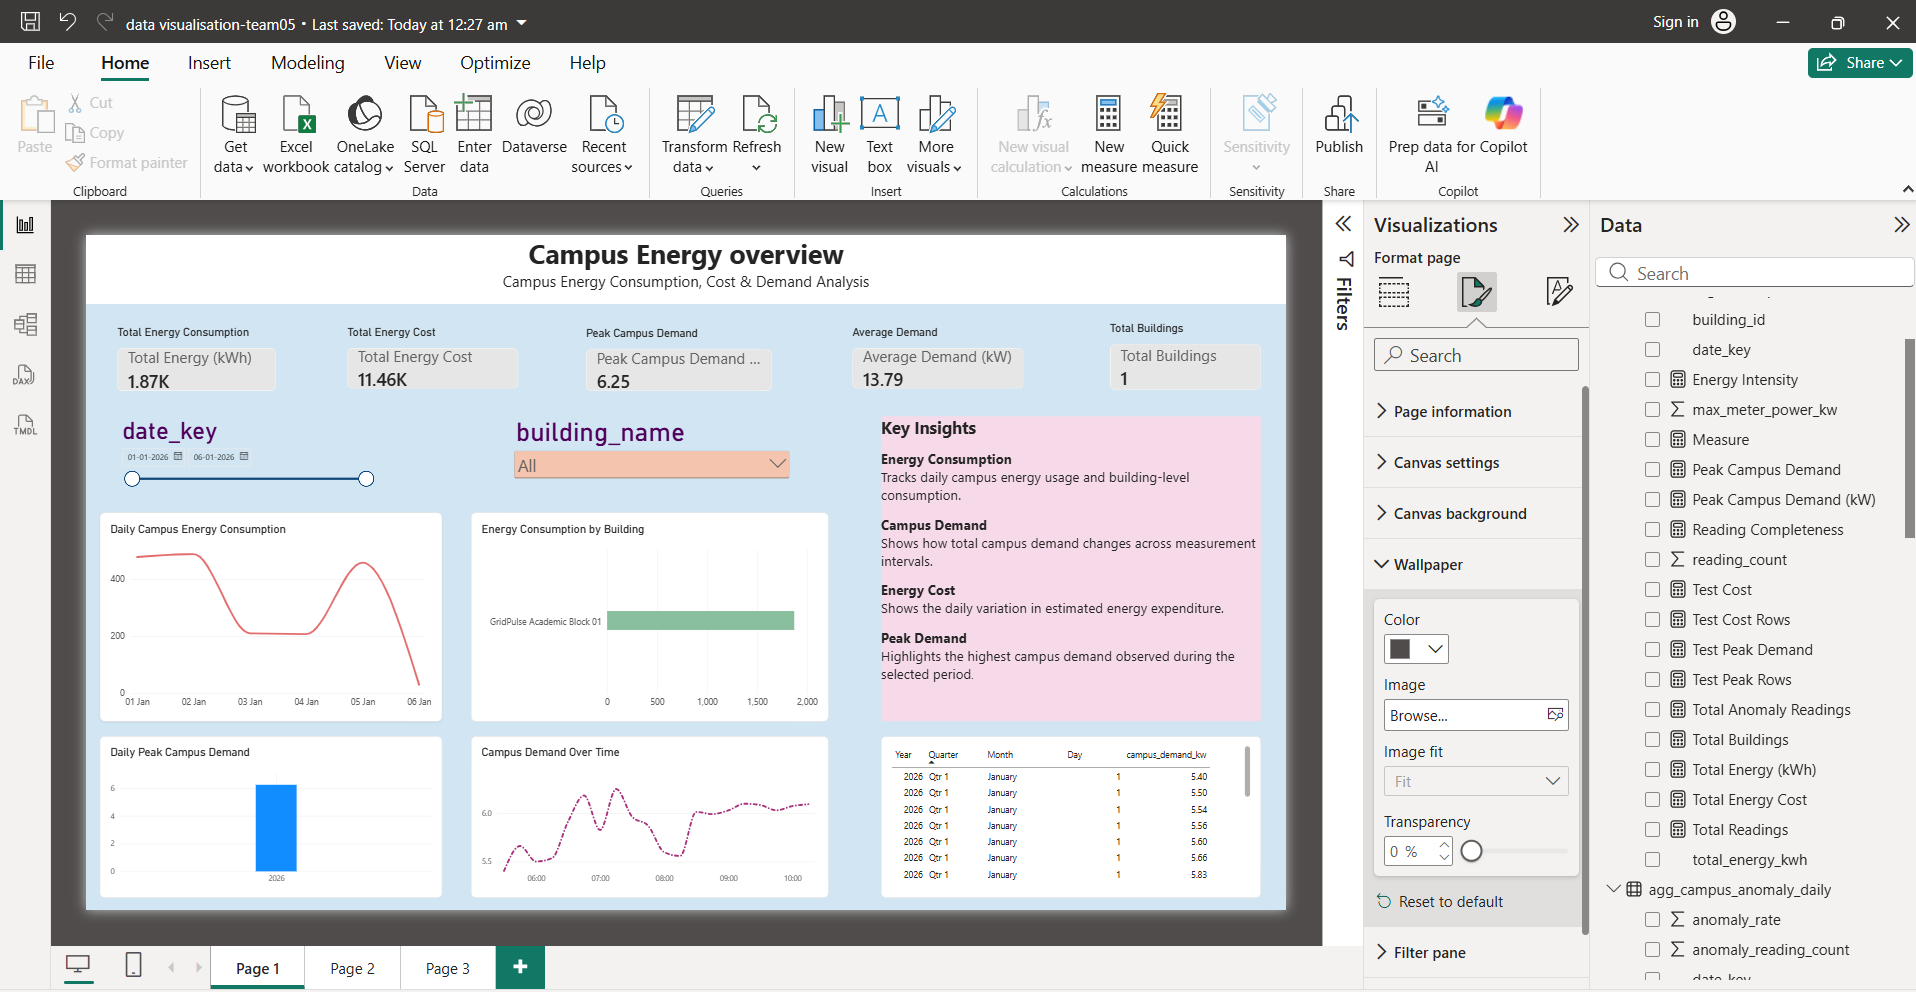

The page's visual inventory and layout, read from the dashboard file:
{"tool":"powerbi","page":{"name":"Page 1","canvas":[1920,1080],"ordinal":0},"visuals":[{"type":"cardVisual","title":"Total Energy Cost","fields":{"Data":["agg_building_consumption_daily.Total Energy Cost"]},"box":[418,144,274,102],"z":0},{"type":"cardVisual","title":"Peak Campus Demand","fields":{"Data":["agg_building_consumption_daily.Peak Campus Demand (kW)"]},"box":[800,146,298,104],"z":1000},{"type":"cardVisual","title":"Average Demand","fields":{"Data":["agg_building_consumption_daily.Average Demand (kW)"]},"box":[1226,144,274,102],"z":2000},{"type":"cardVisual","title":"Total Energy Consumption","fields":{"Data":["agg_building_consumption_daily.Total Energy (kWh)"]},"box":[50,144,254,106],"z":3000},{"type":"cardVisual","title":"Total Buildings","fields":{"Data":["agg_building_consumption_daily.Total Buildings"]},"box":[1638,138,242.5,110.4],"z":4000},{"type":"lineChart","title":"Daily Campus Energy Consumption","fields":{"Y":["agg_building_consumption_daily.Total Energy (kWh)"],"Category":["dim_date.date_key.Variation.Date Hierarchy.Year","dim_date.date_key.Variation.Date Hierarchy.Quarter","dim_date.date_key.Variation.Date Hierarchy.Month","dim_date.date_key.Variation.Date Hierarchy.Day"]},"box":[22,444,548,334],"z":5000},{"type":"clusteredBarChart","title":"Energy Consumption by Building","fields":{"Category":["dim_building.building_name"],"Y":["agg_building_consumption_daily.Total Energy (kWh)"]},"box":[616,444,572,334],"z":6000},{"type":"lineChart","title":"Campus Demand Over Time","fields":{"Category":["agg_peak_load_interval.interval_ts"],"Y":["Sum(agg_peak_load_interval.campus_demand_kw)"]},"box":[616,802,572,258],"z":7000},{"type":"tableEx","fields":{"Values":["agg_peak_load_interval.interval_ts.Variation.Date Hierarchy.Year","agg_peak_load_interval.interval_ts.Variation.Date Hierarchy.Quarter","agg_peak_load_interval.interval_ts.Variation.Date Hierarchy.Month","agg_peak_load_interval.interval_ts.Variation.Date Hierarchy.Day","agg_peak_load_interval.campus_demand_kw"]},"box":[1272,802,608,258],"z":9000},{"type":"slicer","fields":{"Values":["dim_date.date_key"]},"box":[50,290,414,234],"z":10000},{"type":"slicer","fields":{"Values":["dim_building.building_name"]},"box":[680,290,450.6,124.9],"z":11000},{"type":"textbox","box":[0,0,1920,110],"z":13000},{"type":"clusteredColumnChart","title":"Daily Peak Campus Demand","fields":{"Category":["agg_peak_load_interval.date_key"],"Y":["agg_building_consumption_daily.Peak Campus Demand"]},"box":[22,802,548,258],"z":14000},{"type":"textbox","box":[1272,290,608,488],"z":14001}]}

Visuals, with their boxes on the page's 1920x1080 design canvas (x1, y1, x2, y2). These are canvas units, not pixel positions in the 1916x992 screenshot, which may show the page scaled, cropped or inside an application window:
"Total Energy Cost" cardVisual: Rect(418, 144, 692, 246)
"Peak Campus Demand" cardVisual: Rect(800, 146, 1098, 250)
"Average Demand" cardVisual: Rect(1226, 144, 1500, 246)
"Total Energy Consumption" cardVisual: Rect(50, 144, 304, 250)
"Total Buildings" cardVisual: Rect(1638, 138, 1880, 248)
"Daily Campus Energy Consumption" lineChart: Rect(22, 444, 570, 778)
"Energy Consumption by Building" clusteredBarChart: Rect(616, 444, 1188, 778)
"Campus Demand Over Time" lineChart: Rect(616, 802, 1188, 1060)
tableEx - agg_peak_load_interval.interval_ts.Variation.Date Hierarchy.Year x agg_peak_load_interval.interval_ts.Variation.Date Hierarchy.Quarter: Rect(1272, 802, 1880, 1060)
slicer - dim_date.date_key: Rect(50, 290, 464, 524)
slicer - dim_building.building_name: Rect(680, 290, 1131, 415)
textbox: Rect(0, 0, 1920, 110)
"Daily Peak Campus Demand" clusteredColumnChart: Rect(22, 802, 570, 1060)
textbox: Rect(1272, 290, 1880, 778)
